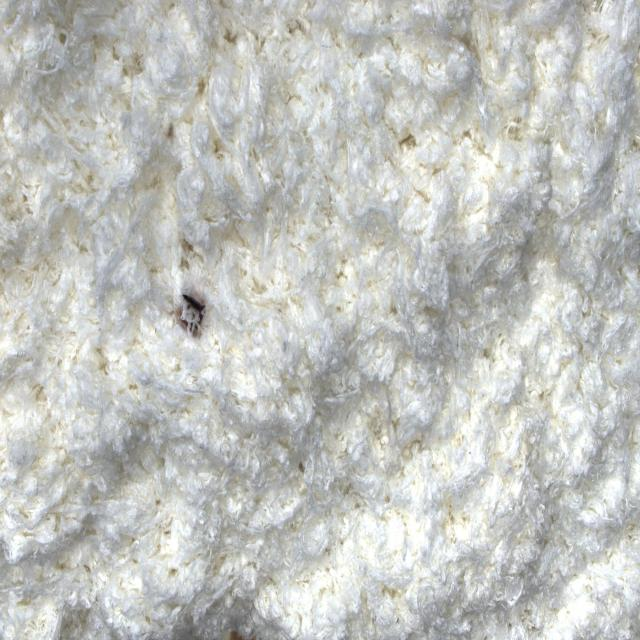dust: (170, 256, 217, 375)
